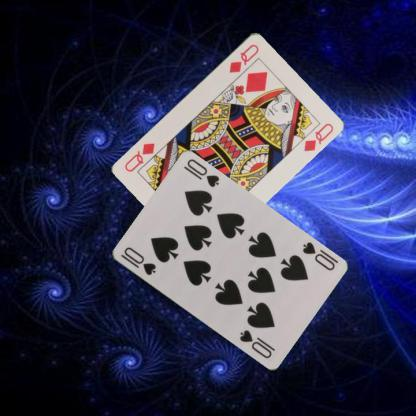10s: (117, 244, 157, 277), (300, 239, 336, 272)
Qd: (226, 41, 260, 74)
